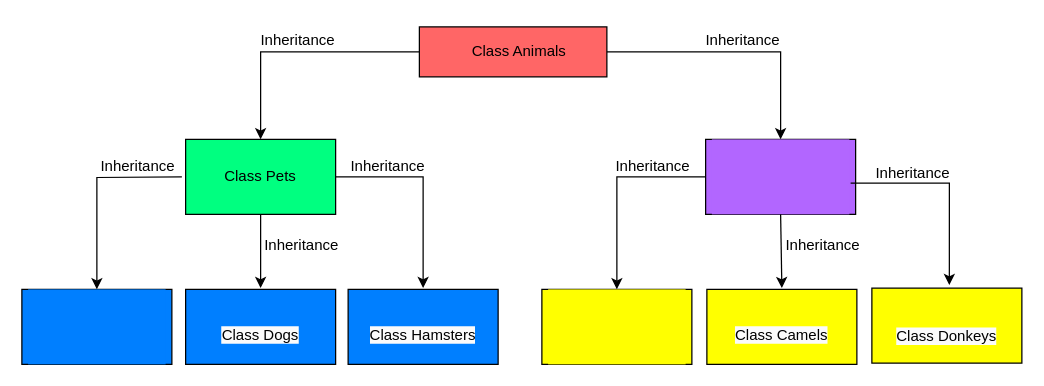
The diagram is 1044 pixels wide and 386 high, and some of its shapes have lost their labels. The shapes that lost their labels are listed below. From the top down, each one's centre as x and y in pixels, then its label:
the point at 780,176: Class PackAnimals
the point at 96,326: Class Cats
the point at 616,326: Class Horser
